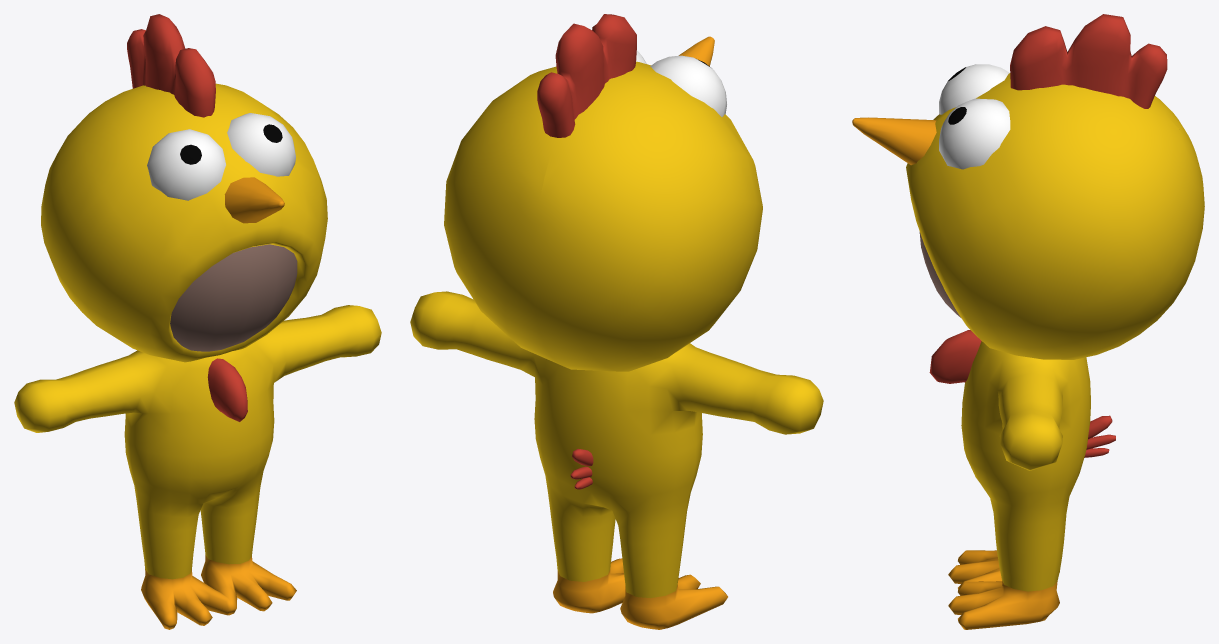
File: hen_cloth.fbx
3 renders of one model, left to right at view 1: azimuth 30°, elevation 25°; view 2: azimuth 150°, elevation 25°; view 3: azimuth 270°, elevation 25°, orthographic. The views are drawn at different scales.
Parts seen in each view (by area): view 1: Hen_clth, Client; view 2: Hen_clth; view 3: Hen_clth, Client.
Part boxes in pixels (bbox=[...]): Hen_clth: bbox=[14, 14, 381, 629]; Client: bbox=[170, 244, 297, 351]; Hen_clth: bbox=[410, 14, 823, 629]; Hen_clth: bbox=[852, 14, 1204, 629]; Client: bbox=[919, 232, 960, 317].
Bounding box in the file's own units: 225 × 331 × 182.
